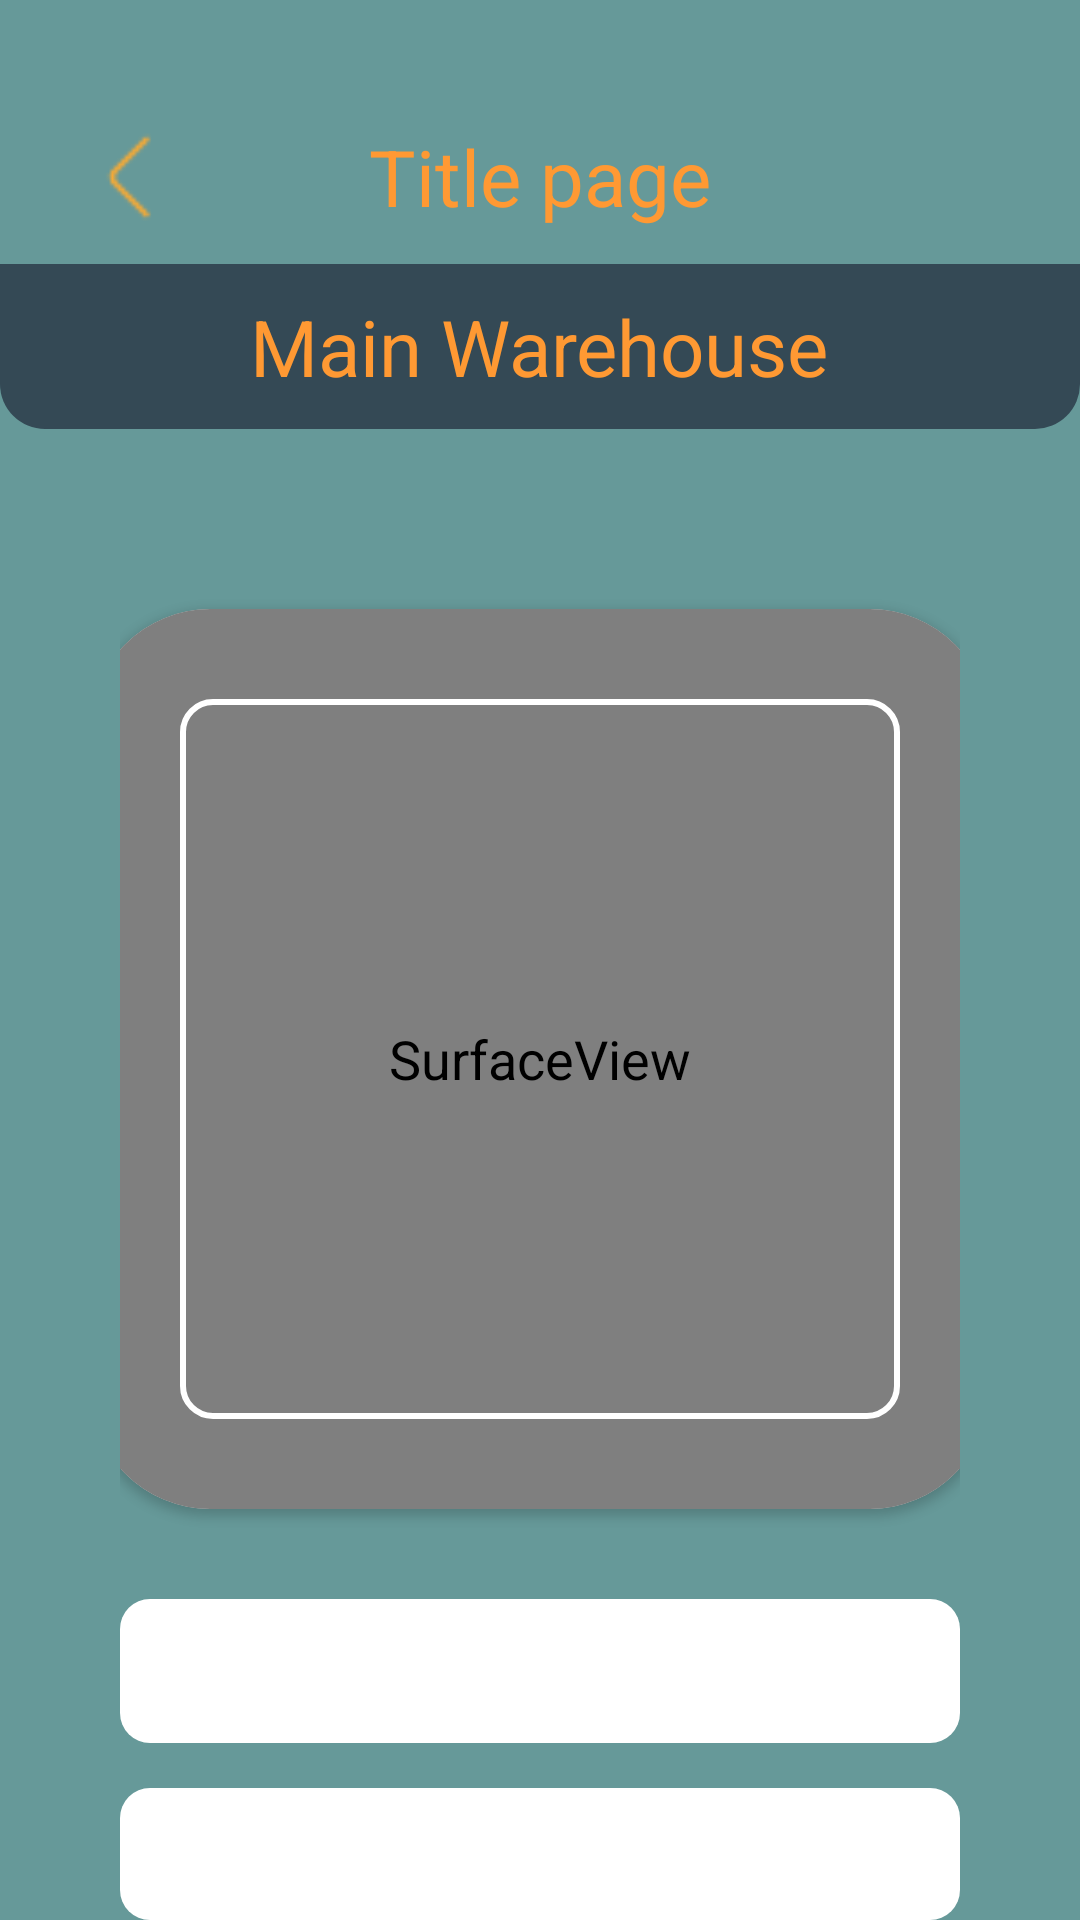

Icon bounding boxes for this 1080 x 1920 phone screenshot, format (x1, y1, x2, y2):
return: (108, 136, 151, 218)
